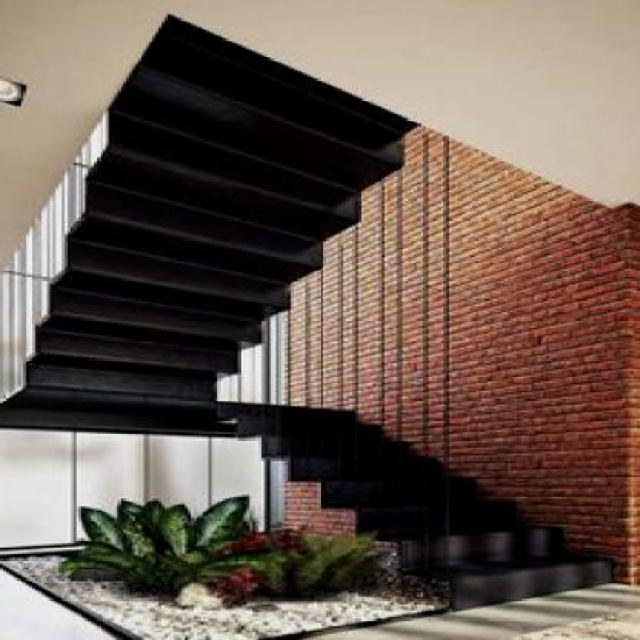stair: (212, 347, 638, 608)
